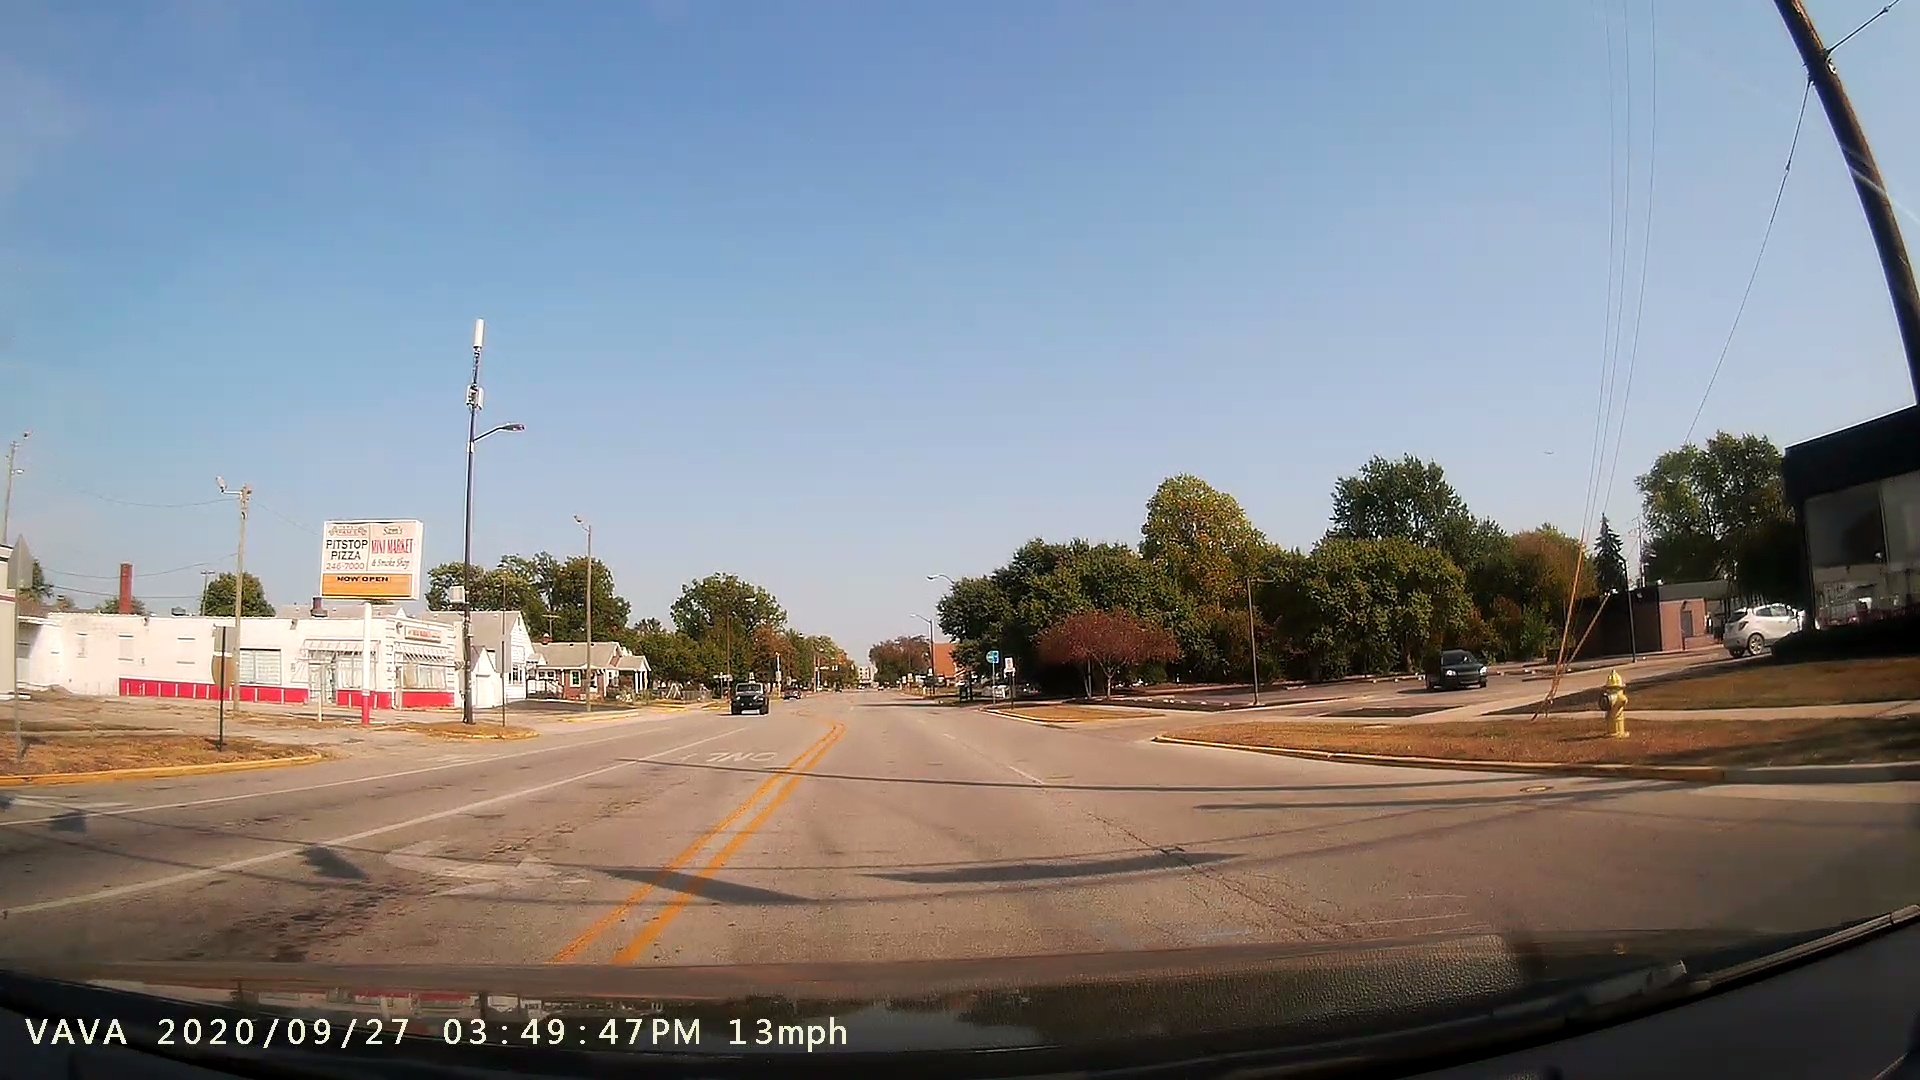fire_hydrant: (1592, 659, 1654, 752)
